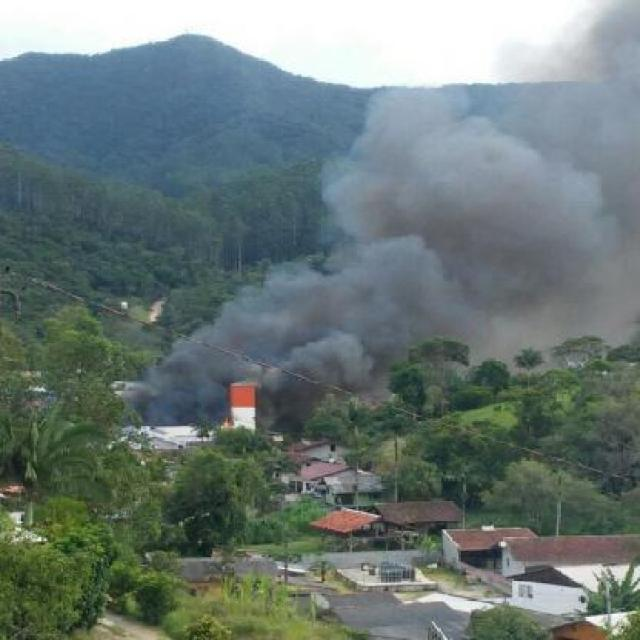Fire: (216, 417, 233, 428)
